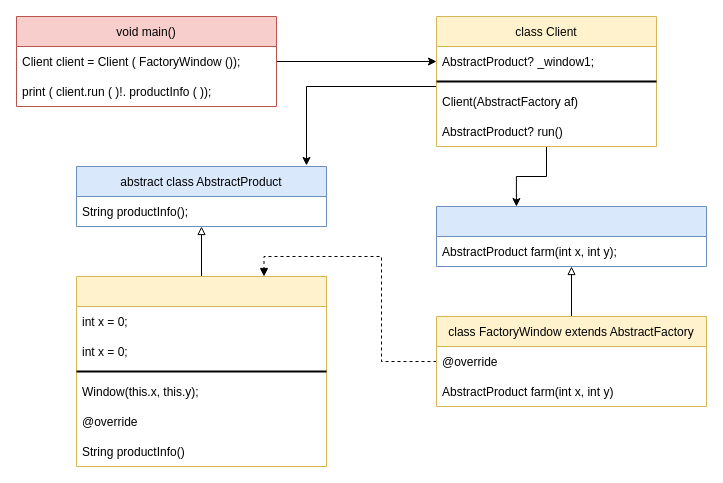
Image size: 723x483. Some labels were removed from this diagram. The box of each missing label's shape, as (x1, y1, x2, y2) in pixels:
abstract class AbstractFactory: (436, 206, 706, 266)
class Window extends AbstractProduct: (76, 276, 326, 466)
